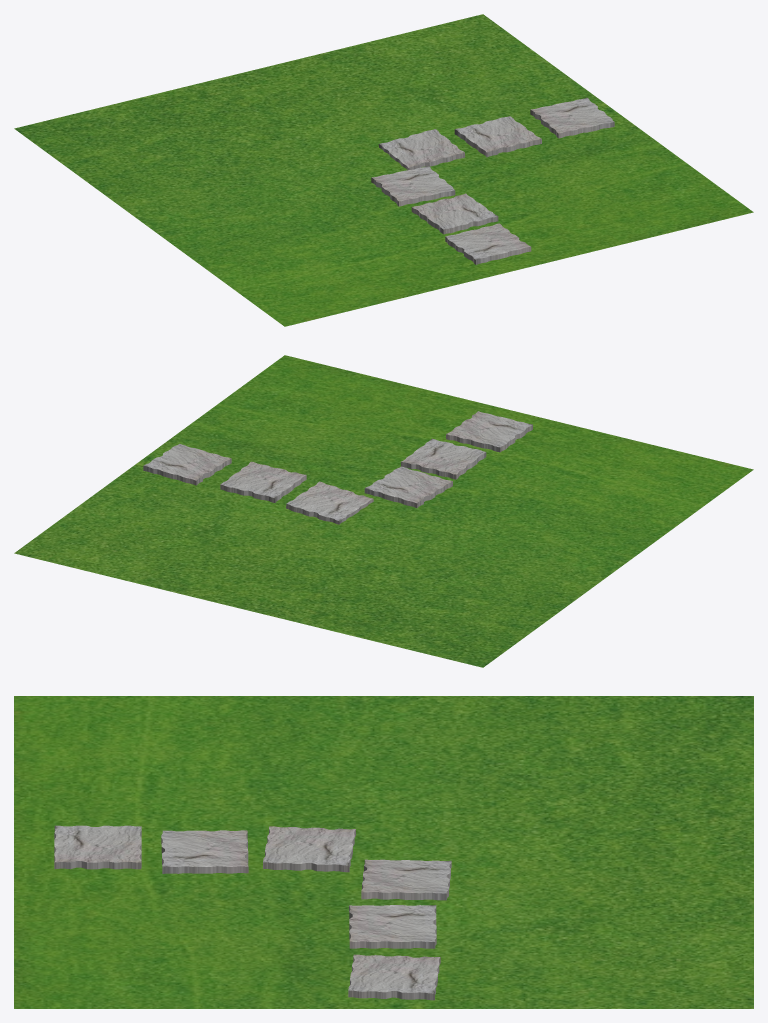
Rendered from pathSE.glb.
3 renders of one model, top to bottom at view 1: azimuth 30°, elevation 25°; view 2: azimuth 150°, elevation 25°; view 3: azimuth 270°, elevation 25°, orthographic. The views are drawn at different scales.
Visible parts, largest first — view 1: Plane, Plane.003, Plane.004, Plane.007, Plane.001, Plane.005, Plane.006; view 2: Plane, Plane.004, Plane.001, Plane.003, Plane.005, Plane.007, Plane.006; view 3: Plane, Plane.003, Plane.007, Plane.001, Plane.005, Plane.006, Plane.004.
Boxes of the visible parts, x1,y1,x2,y2 form: Plane: (14, 14, 753, 326); Plane.003: (454, 116, 541, 157); Plane.004: (378, 129, 465, 169); Plane.007: (445, 223, 531, 264); Plane.001: (530, 97, 614, 138); Plane.005: (371, 166, 455, 206); Plane.006: (411, 193, 498, 234); Plane: (14, 355, 753, 667); Plane.004: (286, 481, 373, 524); Plane.001: (143, 444, 231, 485); Plane.003: (220, 461, 306, 502); Plane.005: (364, 466, 452, 507); Plane.007: (446, 411, 532, 452); Plane.006: (401, 438, 486, 479); Plane: (14, 696, 753, 1008); Plane.003: (349, 905, 436, 948); Plane.007: (54, 825, 141, 869); Plane.001: (348, 954, 440, 1000); Plane.005: (263, 826, 355, 872); Plane.006: (161, 830, 248, 873); Plane.004: (361, 859, 451, 900).
Bounding box in the file's own units: 1 × 0.0162 × 1.
Materials: 2 (2 with a texture image).
